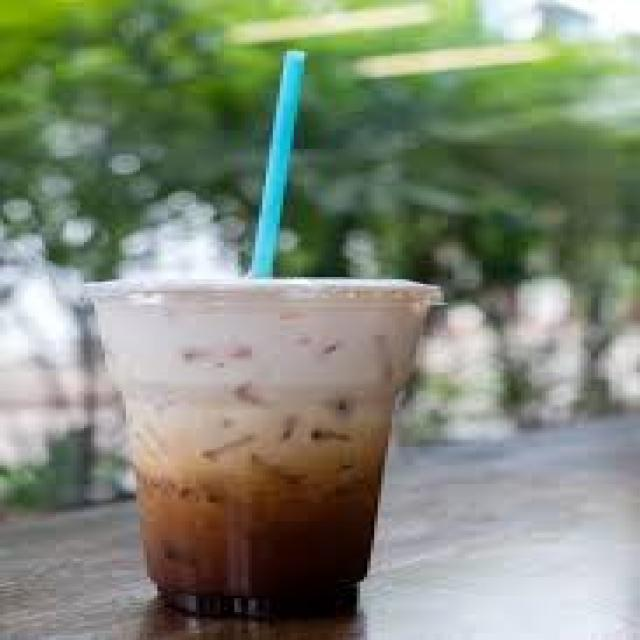bottle: (95, 279, 440, 616)
